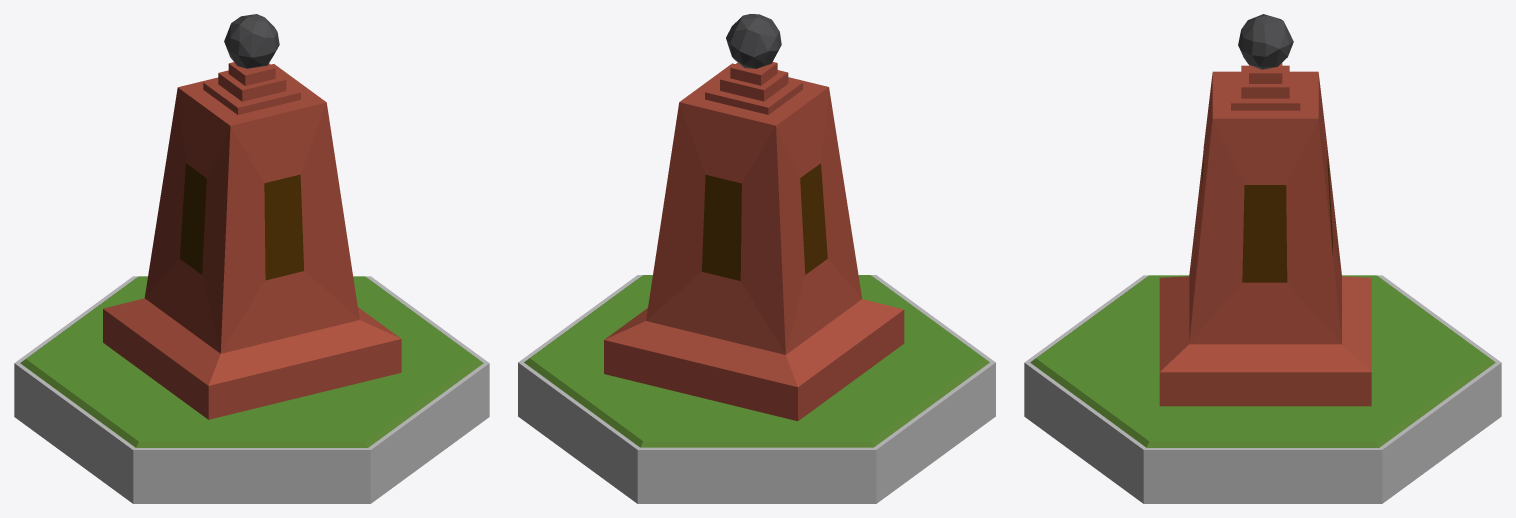
File: Provinces_MitadDelMundo.fbx
3 views of the same model, side by side, from view 1: azimuth 30°, elevation 25°; view 2: azimuth 150°, elevation 25°; view 3: azimuth 270°, elevation 25° (orthographic).
Visible parts, largest first — view 1: 2.MitadDelMundo; view 2: 2.MitadDelMundo; view 3: 2.MitadDelMundo.
Part boxes in pixels (left/top/right/bottom): 2.MitadDelMundo: left=14, top=14, right=489, bottom=503; 2.MitadDelMundo: left=518, top=14, right=995, bottom=503; 2.MitadDelMundo: left=1024, top=14, right=1501, bottom=503.
Bounding box in the file's own units: 173 × 185 × 200.
